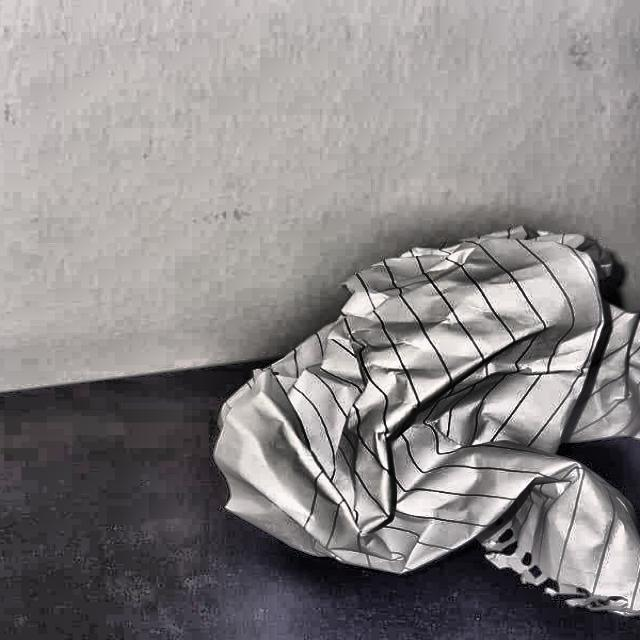paper: (193, 233, 640, 622)
